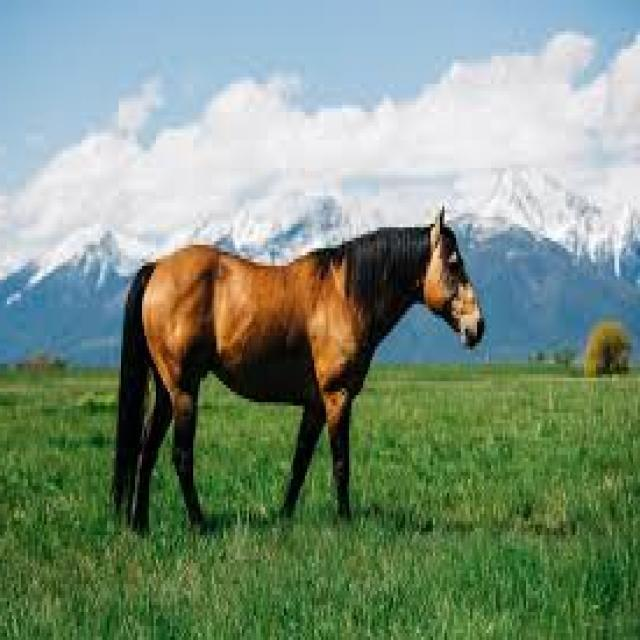horse-standing: (91, 201, 505, 544)
